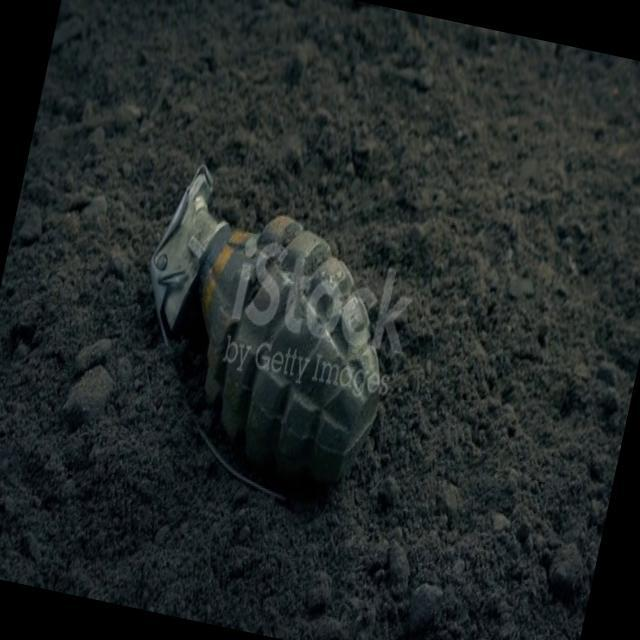grenade: (106, 161, 427, 520)
